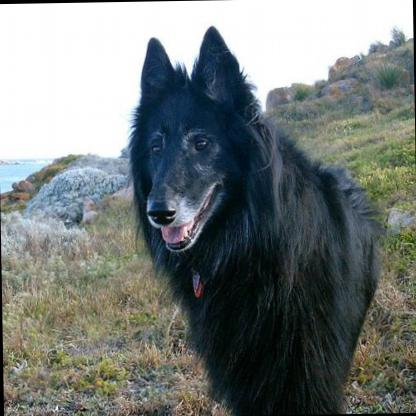groenendael: (112, 6, 398, 414)
